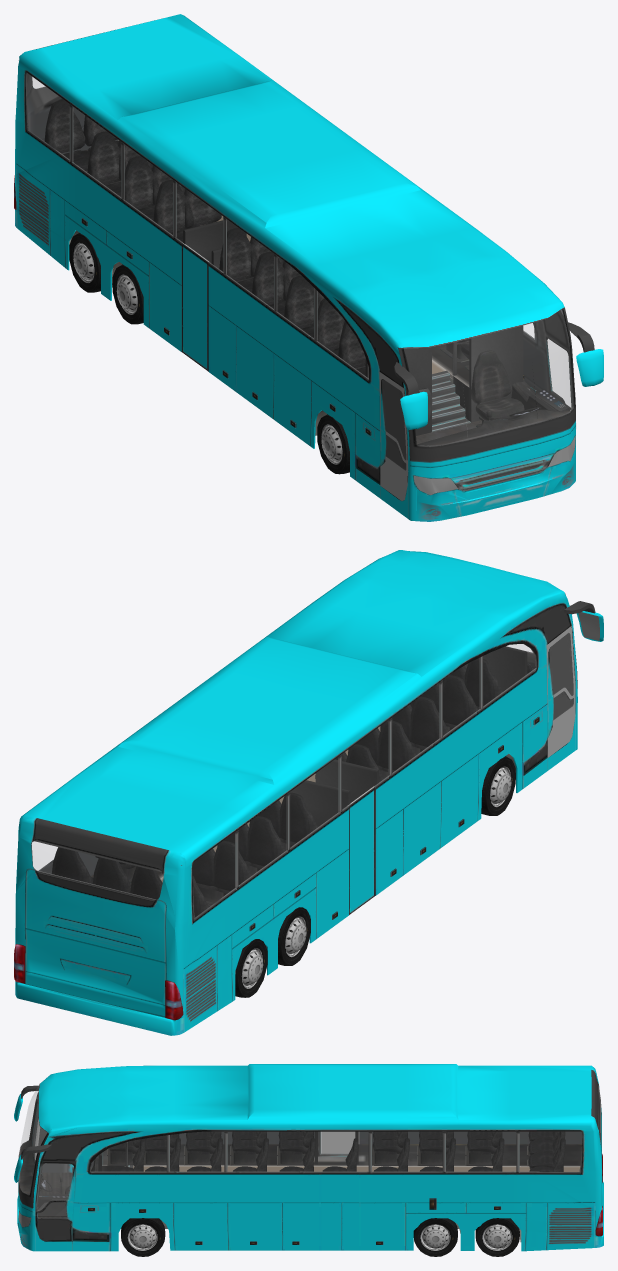
File: bleu luxary bus.fbx
The picture shows the model from 3 angles, top to bottom: view 1: azimuth 30°, elevation 25°; view 2: azimuth 150°, elevation 25°; view 3: azimuth 270°, elevation 25°; orthographic projection. The views are drawn at different scales.
Parts seen in each view (by area): view 1: bus body, inside and glass, seat2, door, door2, Wheel_R_Front, Wheel_R_Extra, Wheel_R_Back, headlight glass; view 2: bus body, inside and glass, seat2, door, door2, Wheel_R_Front, Wheel_R_Back, Wheel_R_Extra; view 3: bus body, inside and glass, seat2, Wheel_L_Front, Wheel_L_Back, Wheel_L_Extra, door2, door.
Part boxes in pixels (x1=…): bus body: x1=15, y1=14, x2=603, y2=521; inside and glass: x1=14, y1=20, x2=594, y2=520; seat2: x1=44, y1=100, x2=469, y2=375; door: x1=379, y1=372, x2=407, y2=518; door2: x1=181, y1=242, x2=209, y2=370; Wheel_R_Front: x1=317, y1=414, x2=349, y2=474; Wheel_R_Extra: x1=69, y1=233, x2=100, y2=292; Wheel_R_Back: x1=112, y1=264, x2=143, y2=324; headlight glass: x1=414, y1=435, x2=575, y2=495; bus body: x1=15, y1=550, x2=603, y2=1035; inside and glass: x1=14, y1=593, x2=595, y2=1020; seat2: x1=52, y1=658, x2=503, y2=917; door: x1=546, y1=626, x2=575, y2=770; door2: x1=348, y1=786, x2=374, y2=914; Wheel_R_Front: x1=481, y1=756, x2=515, y2=815; Wheel_R_Back: x1=278, y1=907, x2=310, y2=965; Wheel_R_Extra: x1=235, y1=939, x2=267, y2=997; bus body: x1=14, y1=1064, x2=603, y2=1251; inside and glass: x1=18, y1=1070, x2=602, y2=1244; seat2: x1=107, y1=1131, x2=565, y2=1171; Wheel_L_Front: x1=121, y1=1218, x2=165, y2=1256; Wheel_L_Back: x1=413, y1=1218, x2=457, y2=1256; Wheel_L_Extra: x1=475, y1=1218, x2=519, y2=1256; door2: x1=321, y1=1131, x2=359, y2=1153; door: x1=35, y1=1119, x2=73, y2=1172.
Size of the model in its own units: 468 by 431 by 1646.
Materials: 10 (6 with a texture image).
